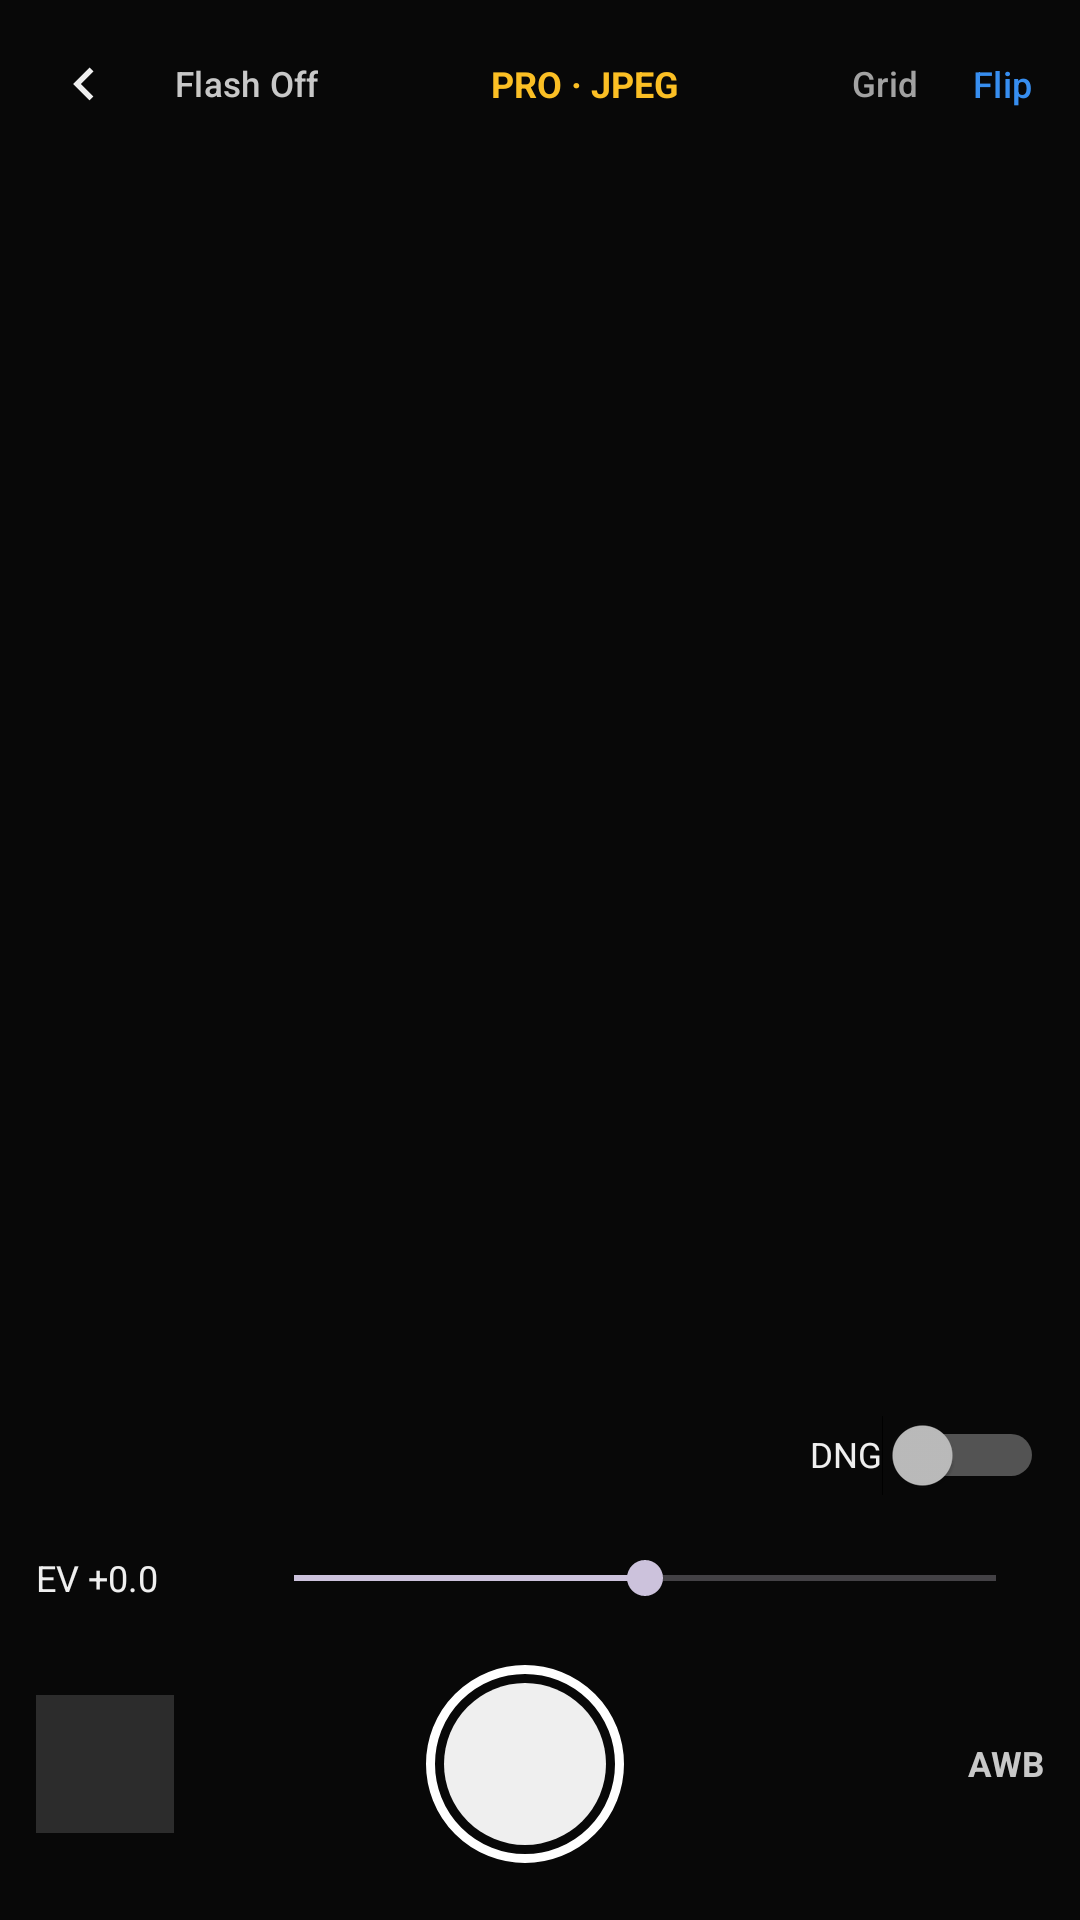

Icons on this 1080*1920 Android screen, each with its box as (x1, y1, x2, y2):
Close Camera: (73, 67, 94, 101)
